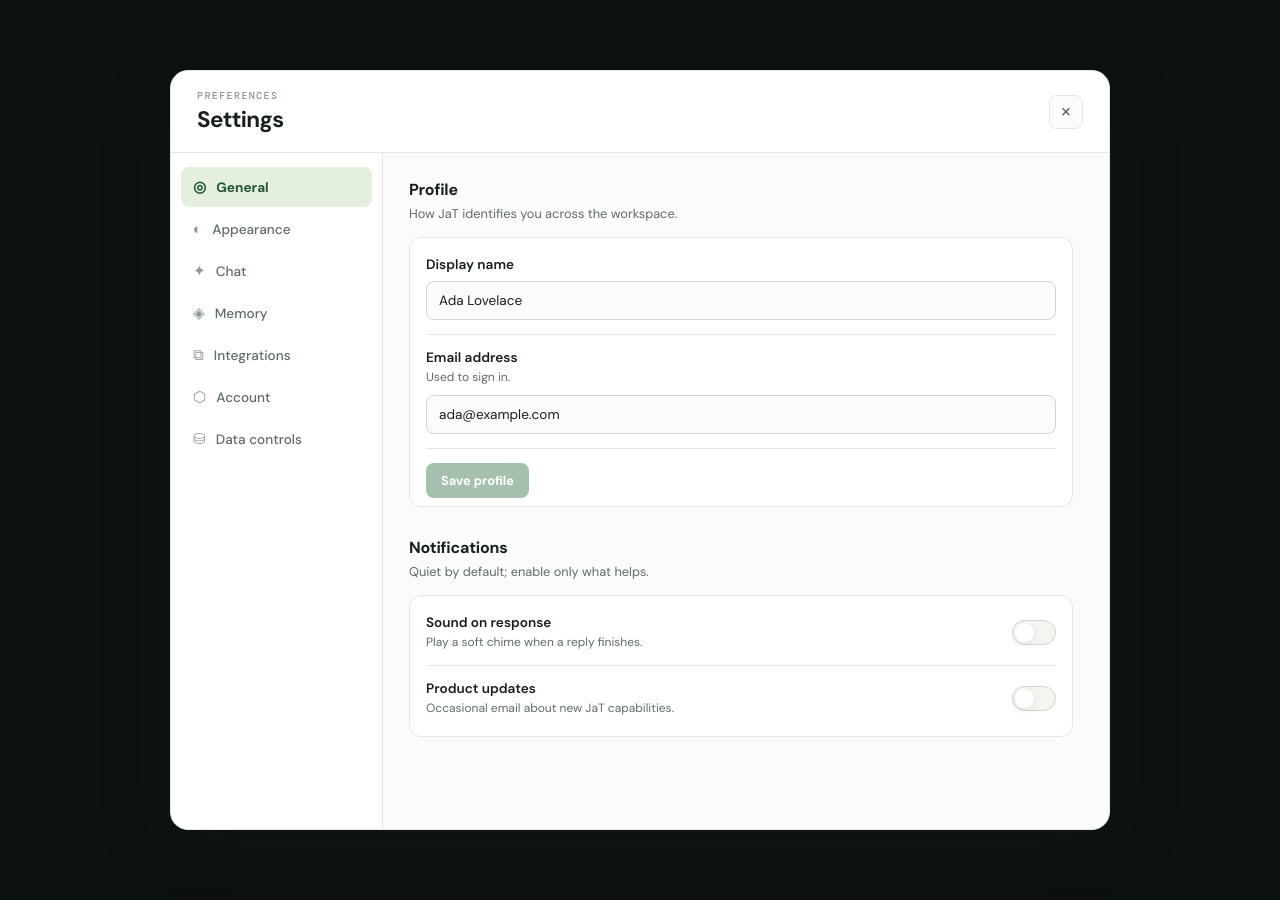
Test case: settings page › requires matching passwords of at least 8 characters
Step 1. Click the button "⬡ Account" → click(276, 397), box [181,377,372,417]
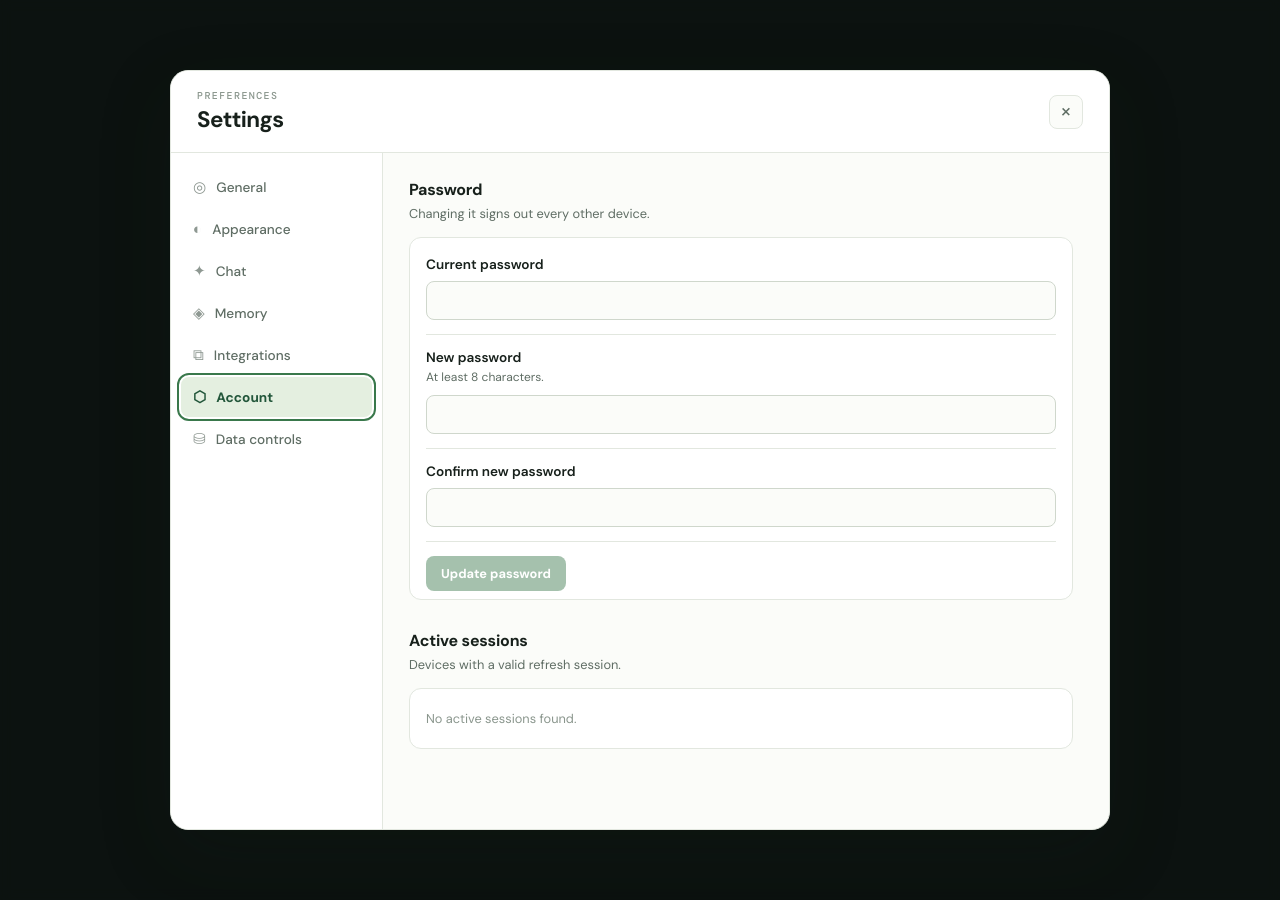
Step 2. Type "old-password" into the password field labelled "Current password" → (741, 301), box [426,281,1056,320]
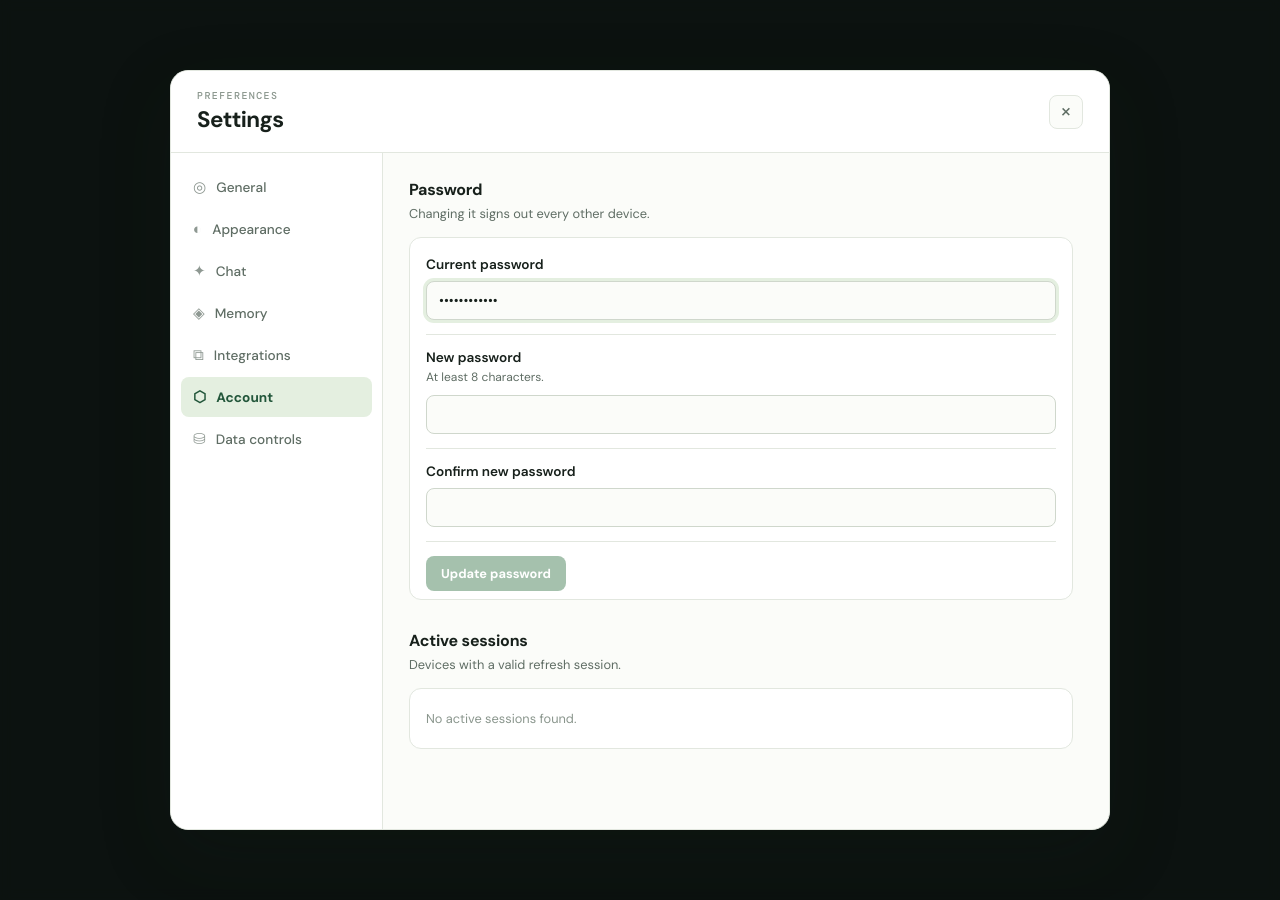
Step 3. Type "short" into the password field labelled "New password" → (741, 414), box [426,395,1056,434]
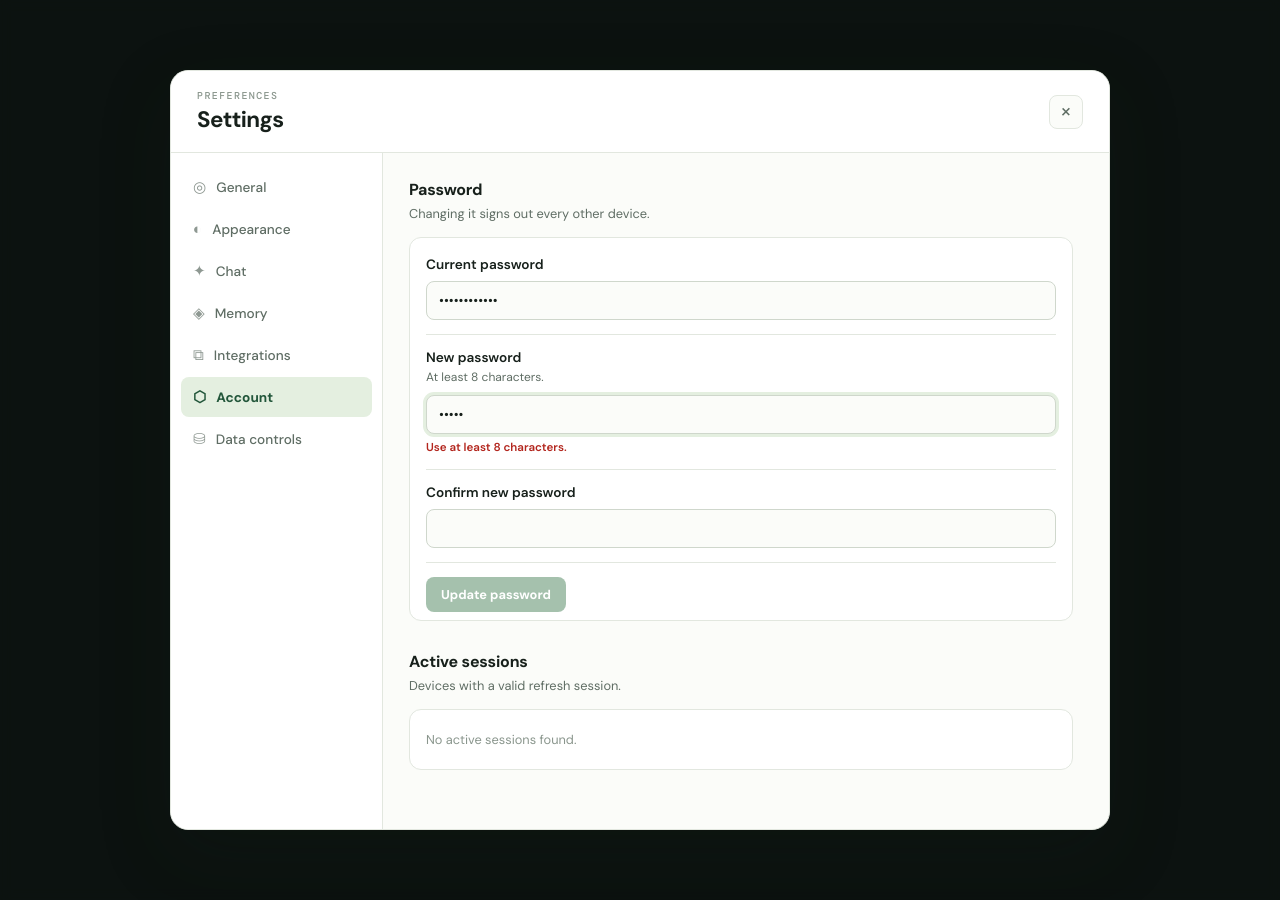
Check: the text with class "field-error" shows "at least 8 characters", box [426,440,567,455]
Step 4. Type "long-enough" into the password field labelled "New password" → (741, 414), box [426,395,1056,434]
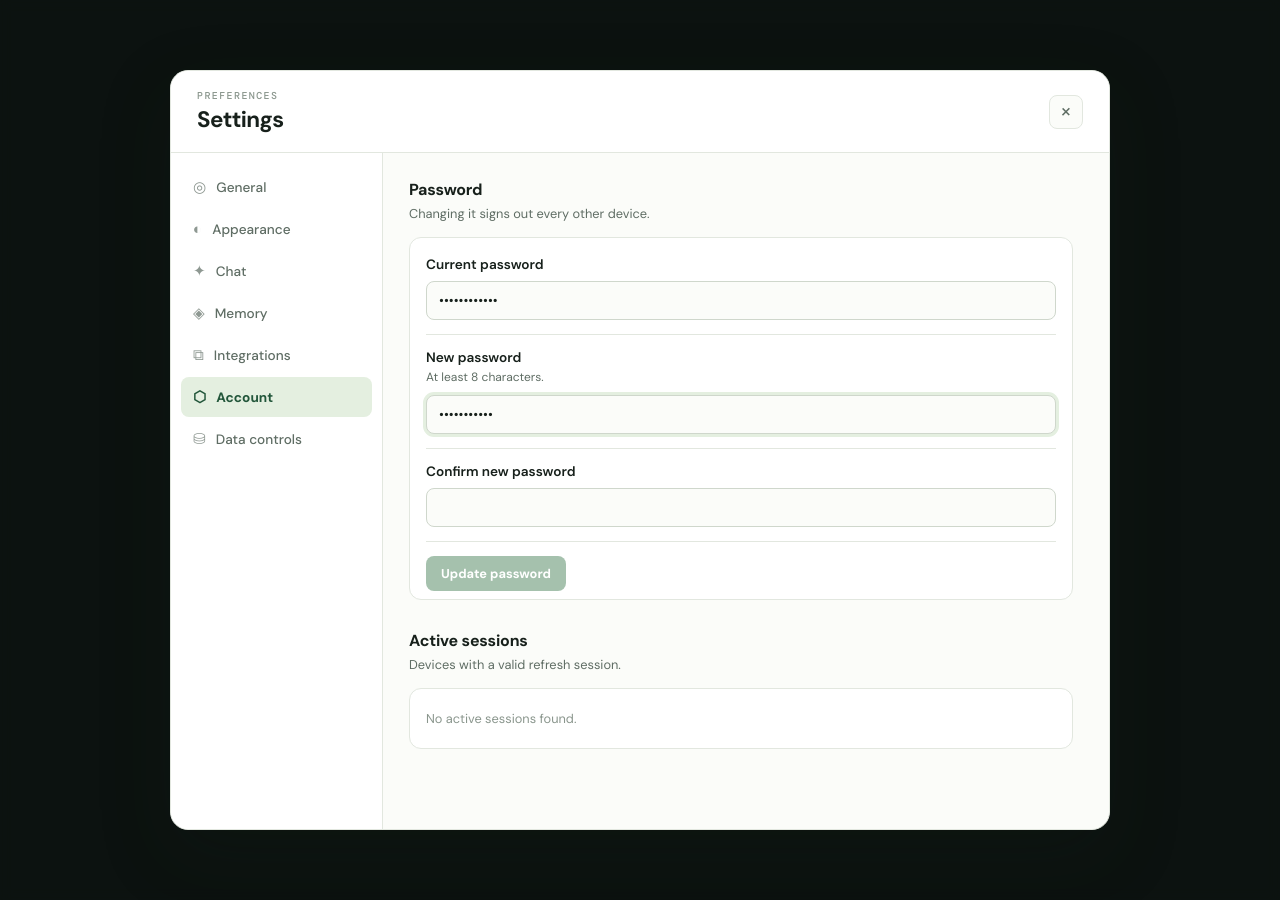
Step 5. Type "different-password" into the password field labelled "Confirm new password" → (741, 507), box [426,488,1056,527]
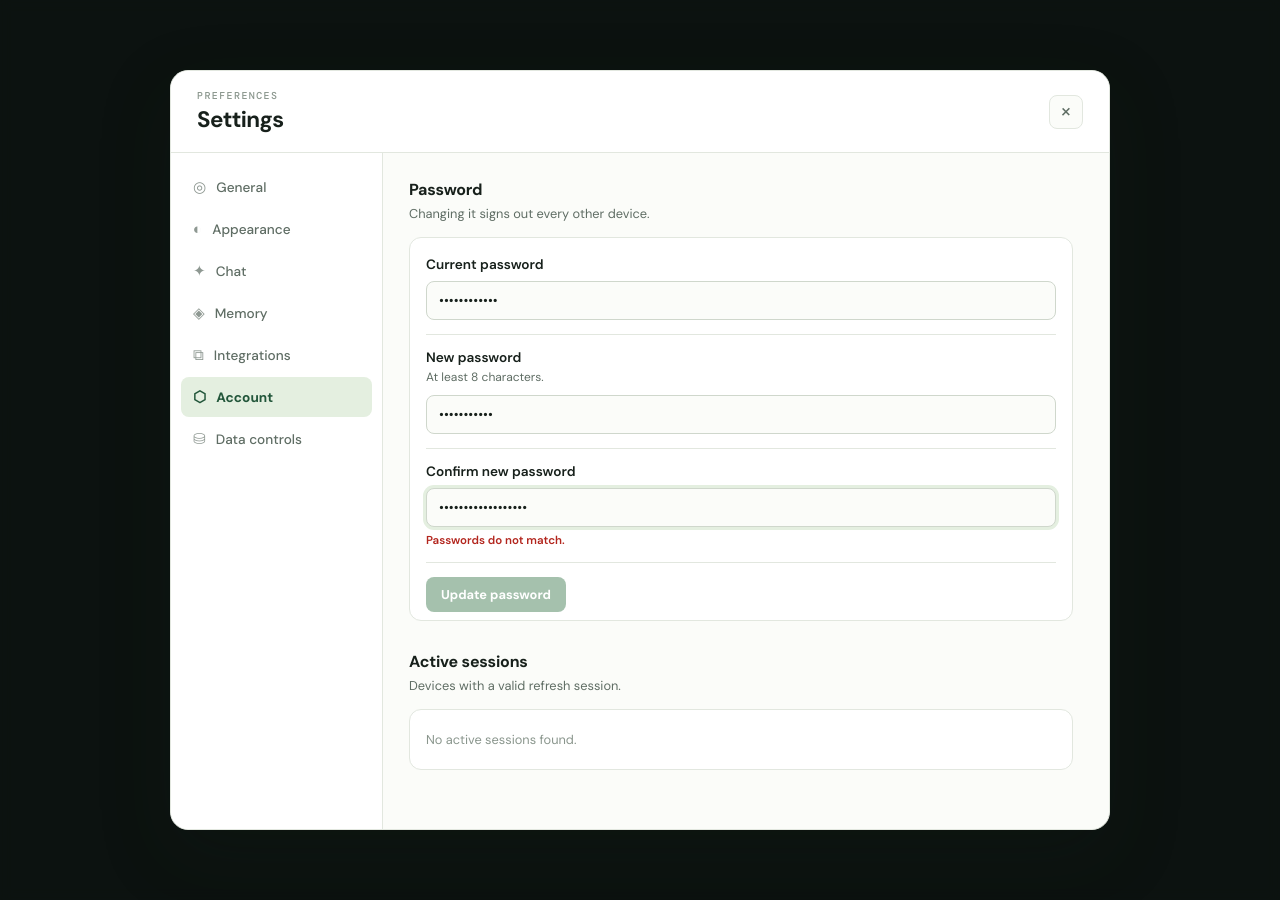
Check: the button "Update password" is disabled, box [426,577,566,612]
Check: the text "Passwords do not match." is shown, box [426,533,565,548]
